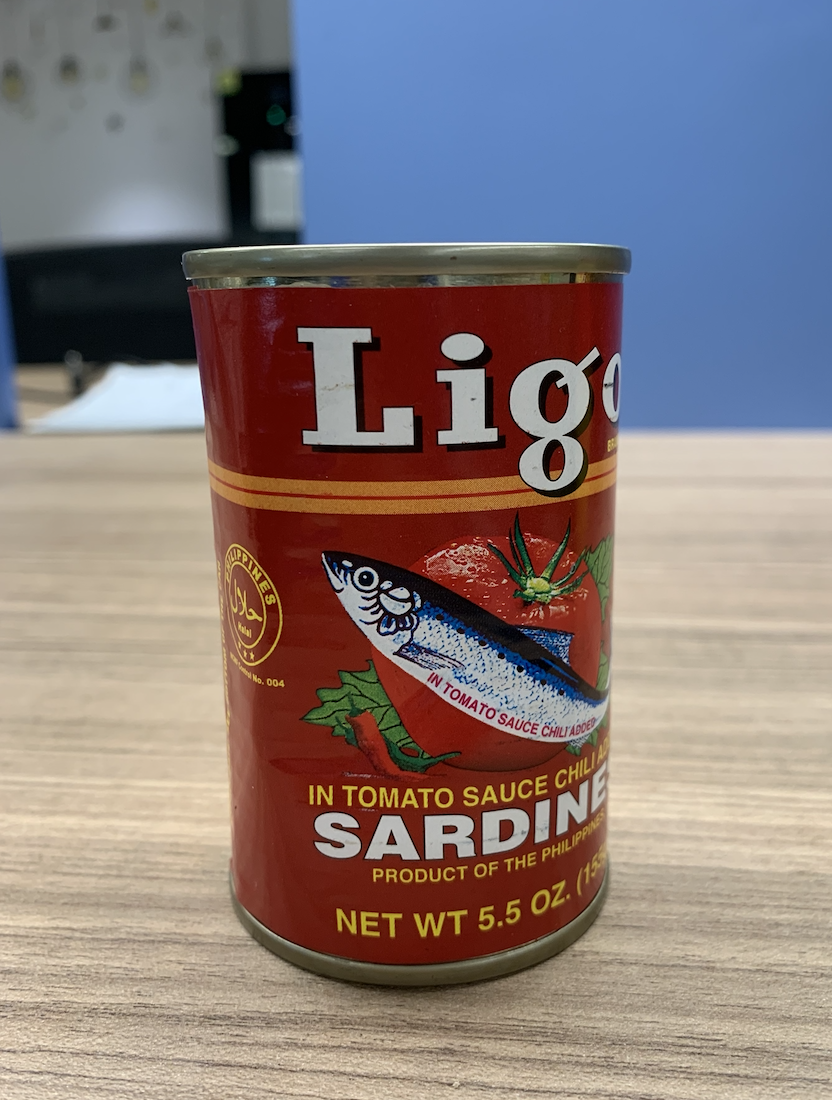sardines_150g: (225, 262, 617, 938)
